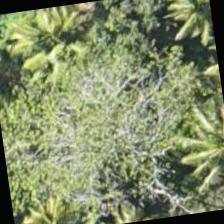Kelapa_Sawit: (8, 1, 108, 100), (166, 99, 223, 197), (135, 0, 215, 43)
